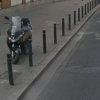Motorcycle: (2, 8, 37, 67)
